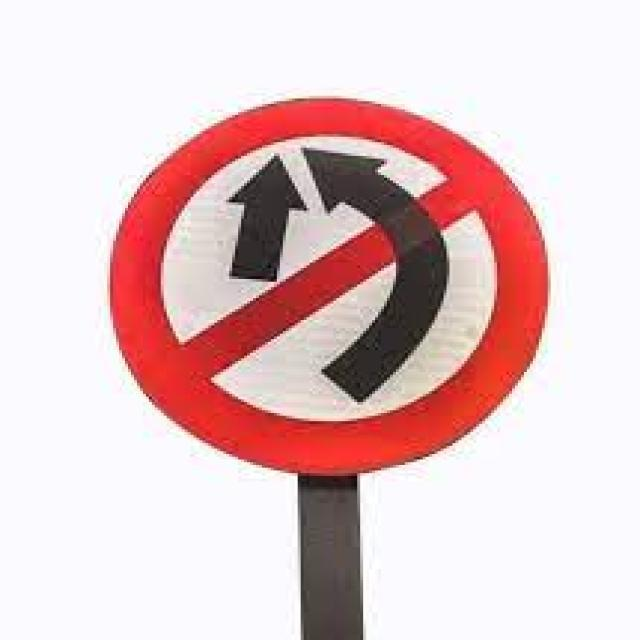overtaking prohibited: (102, 90, 556, 479)
